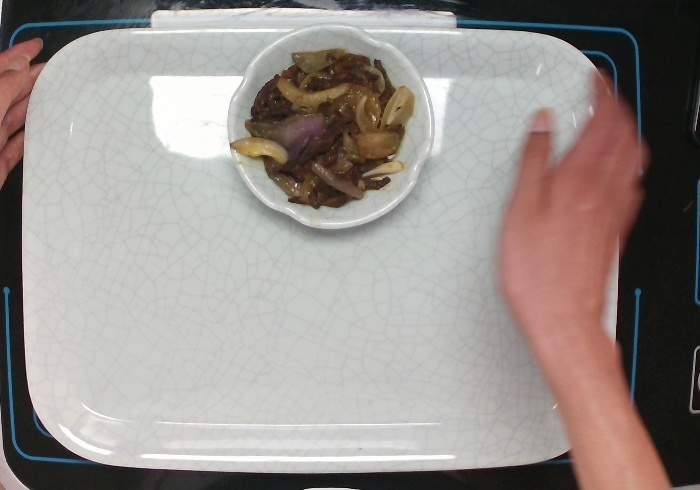JYsf-Ao_Yuan_Wan: (224, 20, 437, 232)
